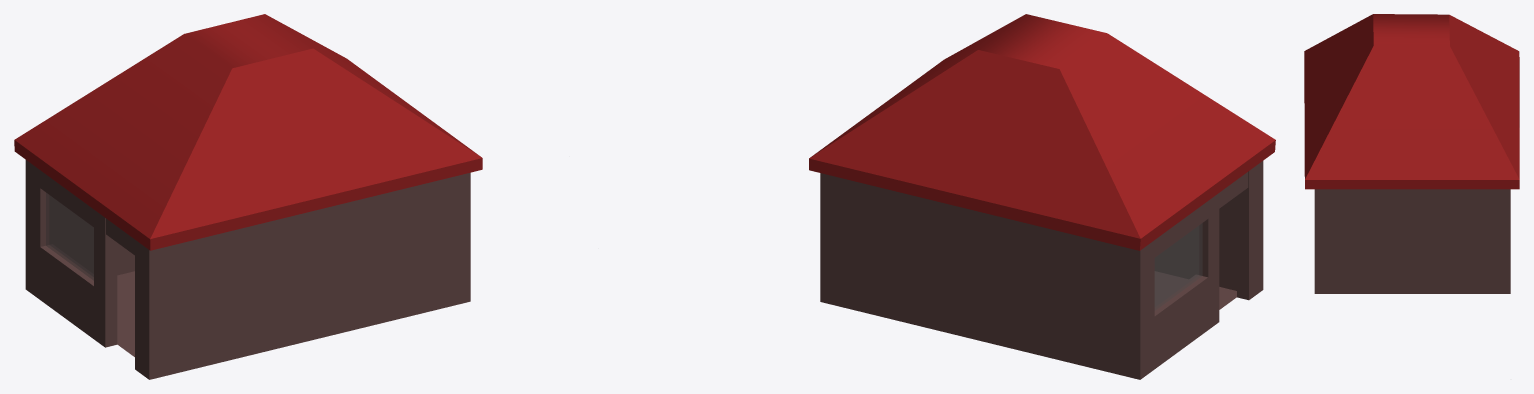
The model's file is tabakladen_withLights.fbx.
3 renders of one model, left to right at view 1: azimuth 30°, elevation 25°; view 2: azimuth 150°, elevation 25°; view 3: azimuth 270°, elevation 25°, orthographic. The views are drawn at different scales.
Parts seen in each view (by area): view 1: roof, house, window2, pCube2; view 2: roof, house, window2; view 3: roof, house.
Part boxes in pixels (<box>): roof: <box>14,14,482,250</box>; house: <box>25,160,470,379</box>; window2: <box>46,193,93,280</box>; pCube2: <box>106,218,134,255</box>; roof: <box>809,14,1275,250</box>; house: <box>820,161,1263,379</box>; window2: <box>1154,223,1202,310</box>; roof: <box>1304,14,1519,189</box>; house: <box>1314,189,1510,293</box>.
Bounding box in the file's own units: 10.27 × 4.56 × 4.4.
